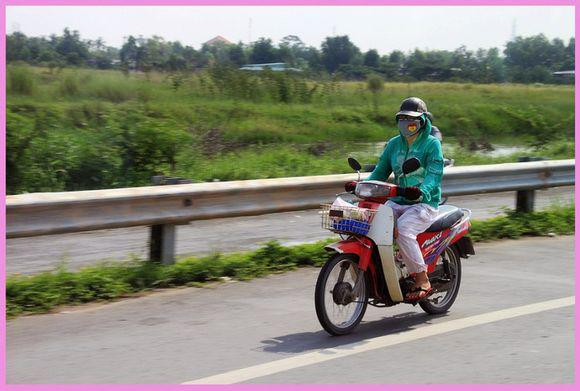OK: (398, 116, 421, 140)
